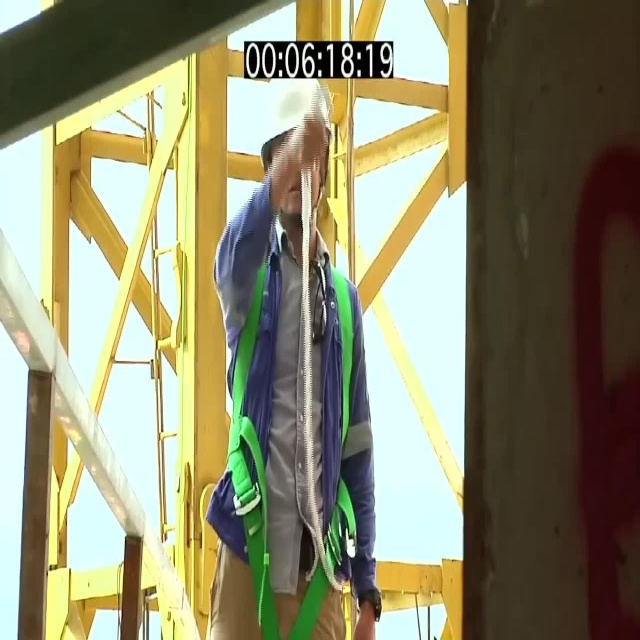Arnes_seguridad: (225, 240, 352, 631)
